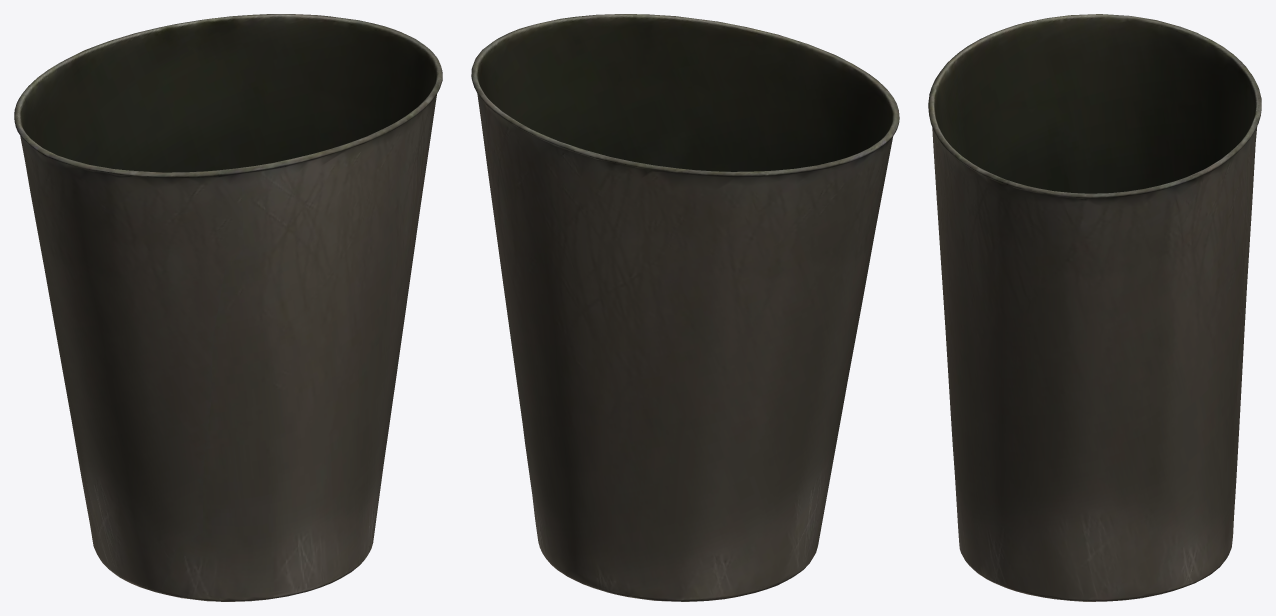
File: gso-waste-basket.glb
The picture shows the model from 3 angles, left to right: view 1: azimuth 30°, elevation 25°; view 2: azimuth 150°, elevation 25°; view 3: azimuth 270°, elevation 25°; orthographic projection. The views are drawn at different scales.
Parts seen in each view (by area): view 1: Hefty_Waste_Basket_Decorative_Bronze_85_liter; view 2: Hefty_Waste_Basket_Decorative_Bronze_85_liter; view 3: Hefty_Waste_Basket_Decorative_Bronze_85_liter.
Part boxes in pixels (x1,y1,x2,y2): Hefty_Waste_Basket_Decorative_Bronze_85_liter: (14,14,442,601); Hefty_Waste_Basket_Decorative_Bronze_85_liter: (471,14,899,601); Hefty_Waste_Basket_Decorative_Bronze_85_liter: (928,14,1261,601).
Bounding box in the file's own units: 0.2707 × 0.3002 × 0.2042.
Materials: 1 (1 with a texture image).
